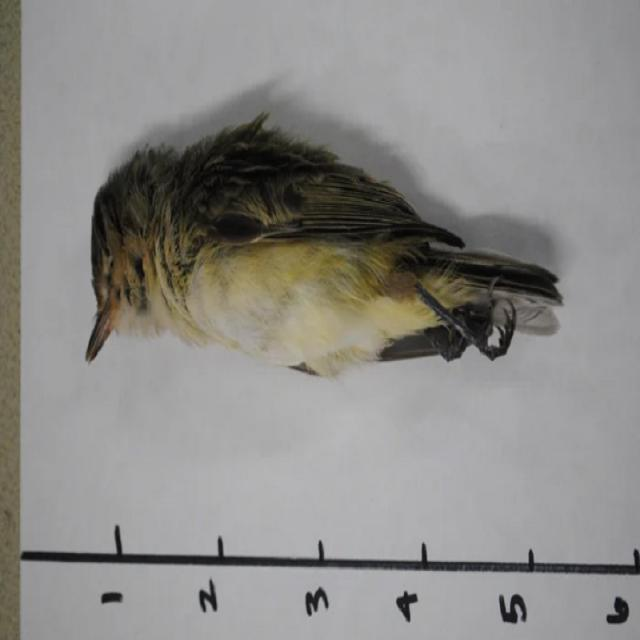Bangkai Burung: (59, 85, 583, 413)
